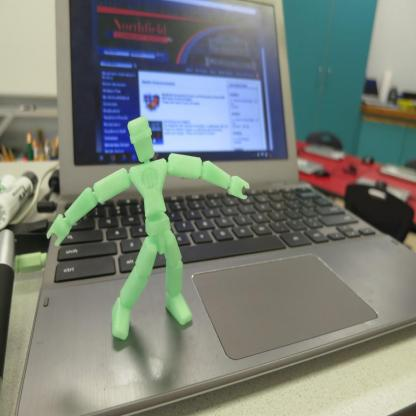board: (14, 0, 414, 415)
